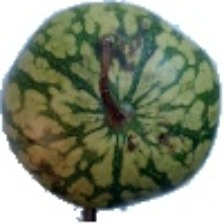watermelon: (7, 26, 179, 224)
